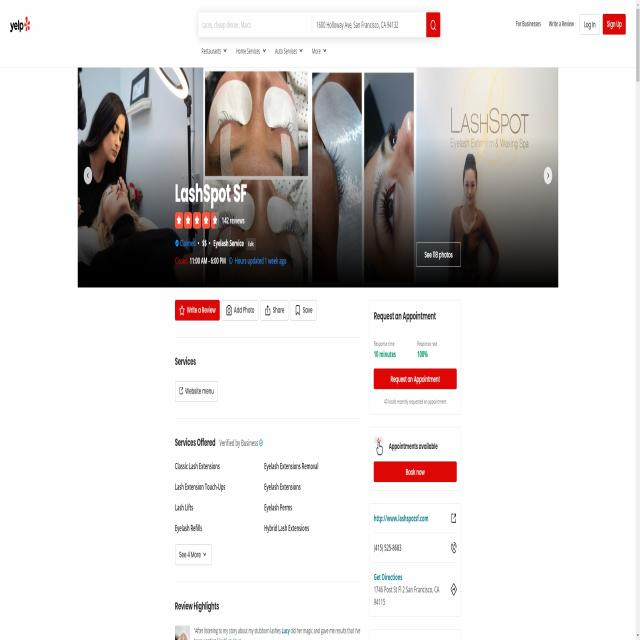menu-bar: (512, 12, 627, 40)
search: (196, 8, 442, 41)
side-panel: (368, 300, 464, 639)
tab-bar: (199, 44, 329, 64)
